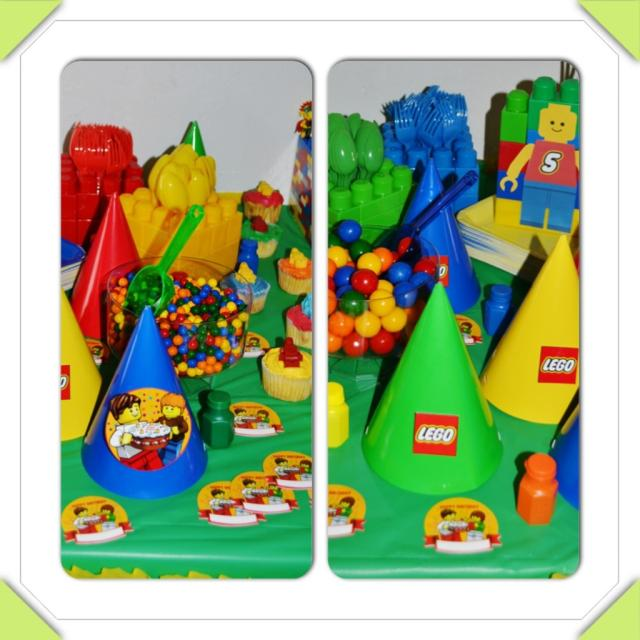Toy: (60, 57, 581, 579)
